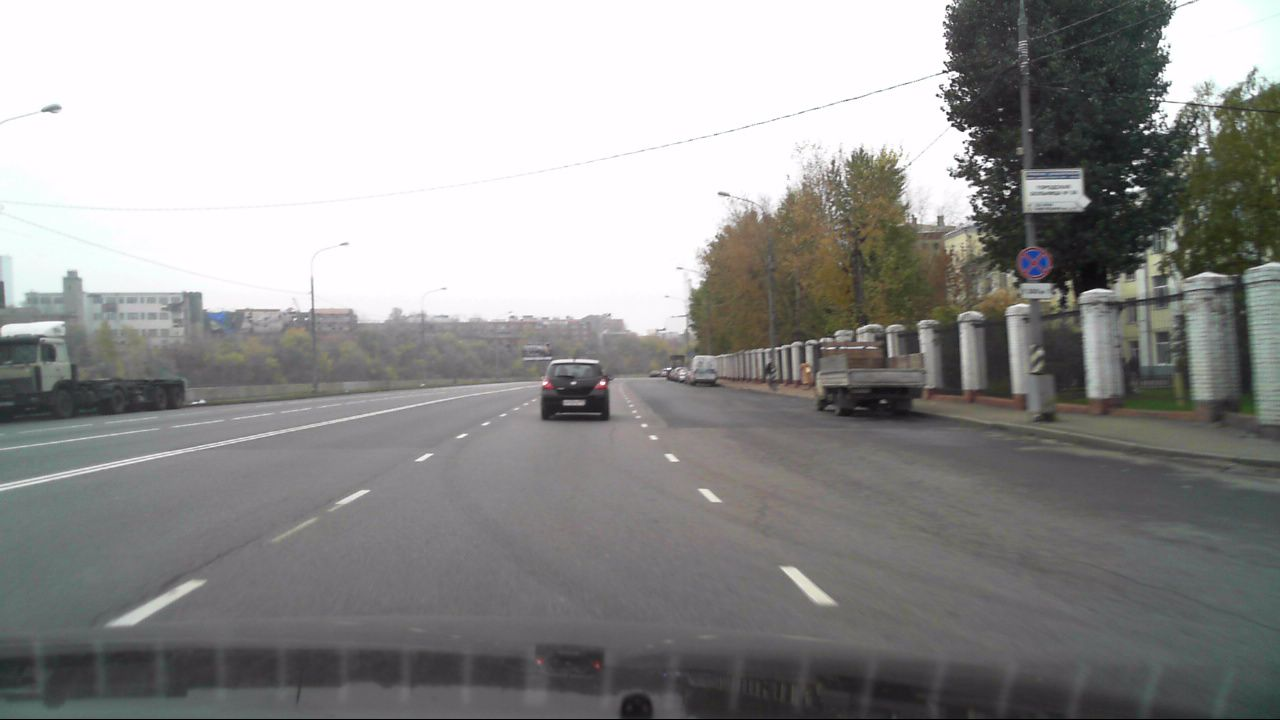No Parking: (1015, 245, 1051, 279)
